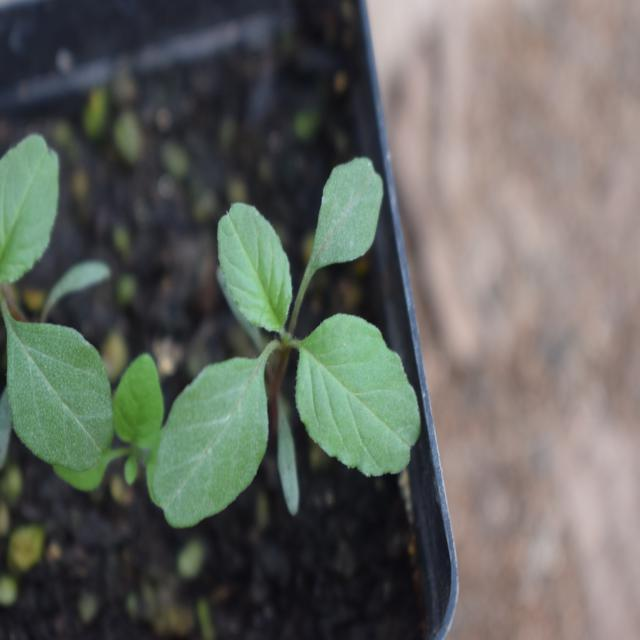pigweed: (163, 171, 422, 511), (0, 152, 106, 471)
